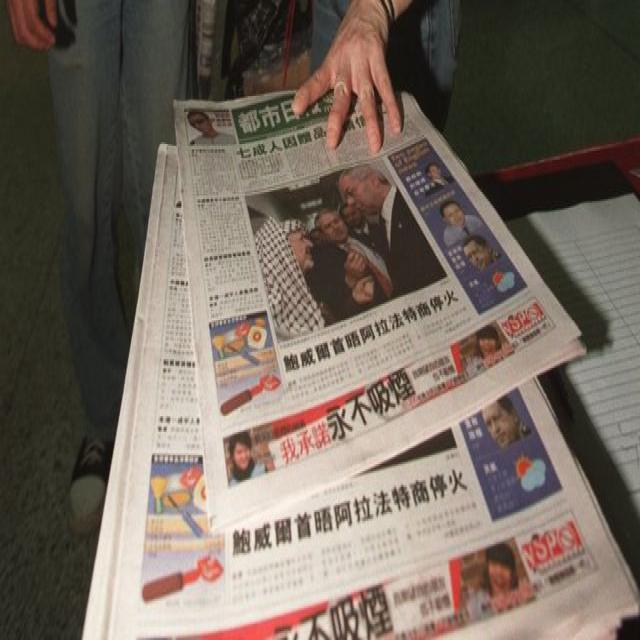newspaper: (92, 94, 623, 640)
